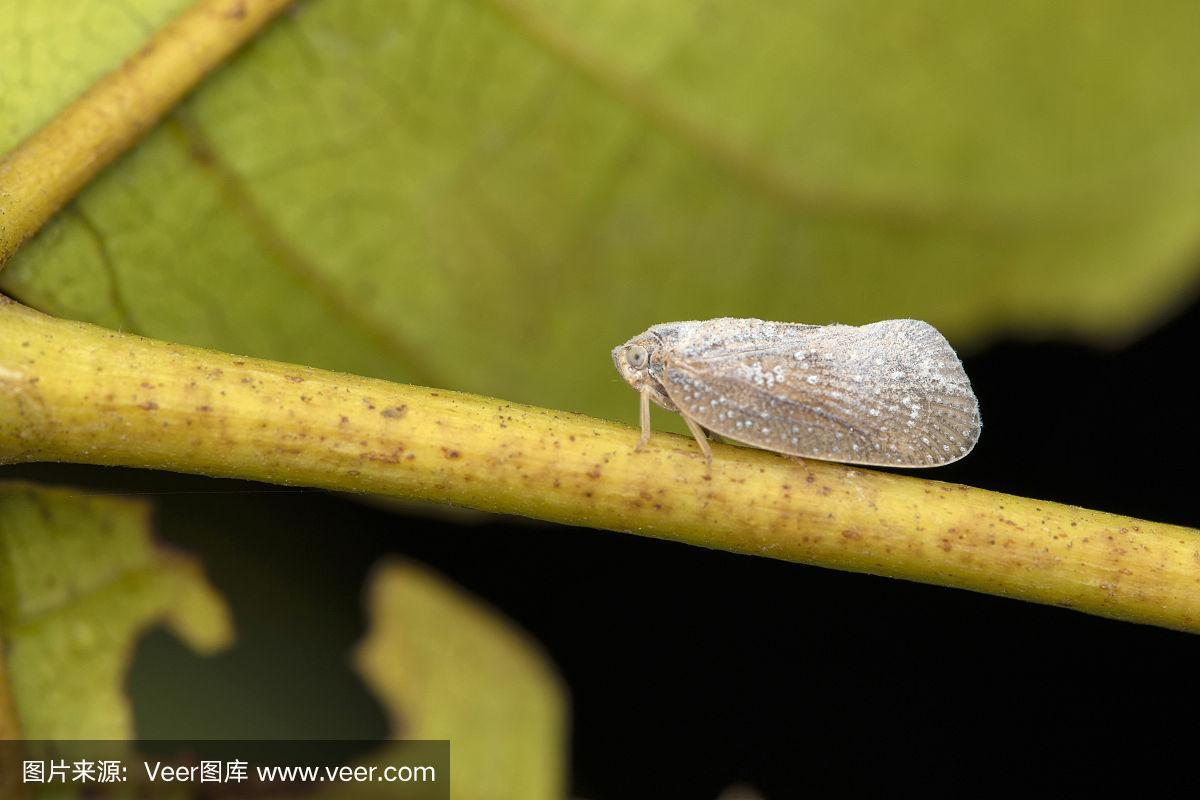Delphacidae: (607, 316, 983, 481)
